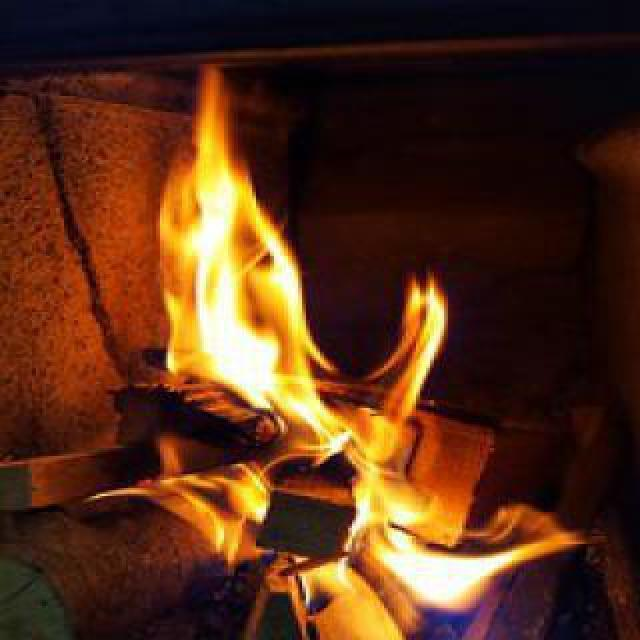Fire: (122, 58, 578, 610)
